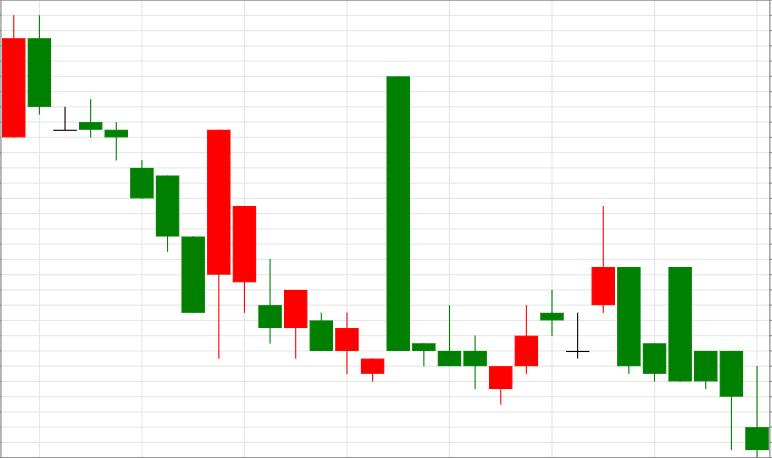shooting_star_fall: (489, 207, 616, 404)
